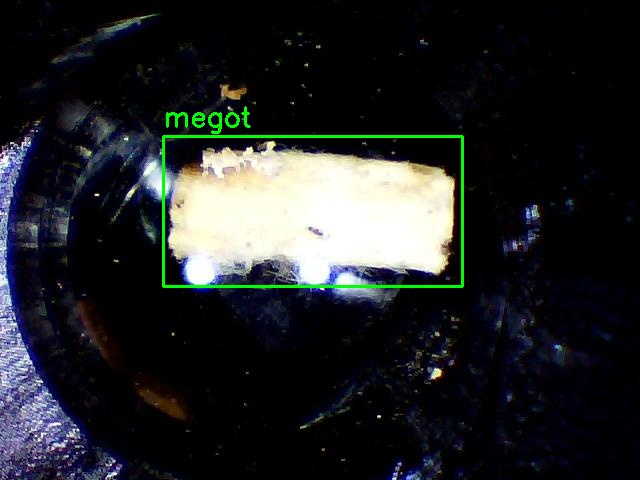megot: (163, 136, 462, 286)
